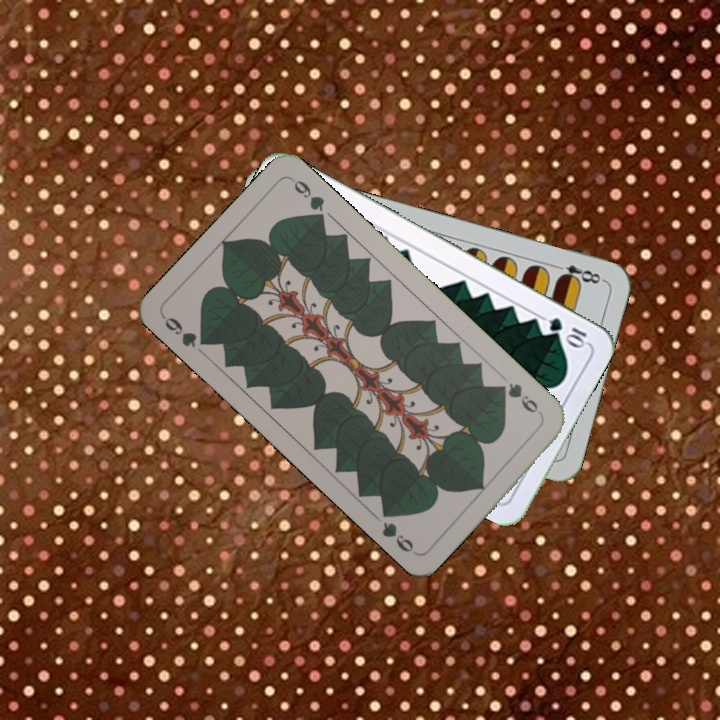E8: (549, 260, 607, 287)
G10: (545, 313, 590, 350)
G9: (493, 378, 546, 420), (159, 312, 214, 350)
